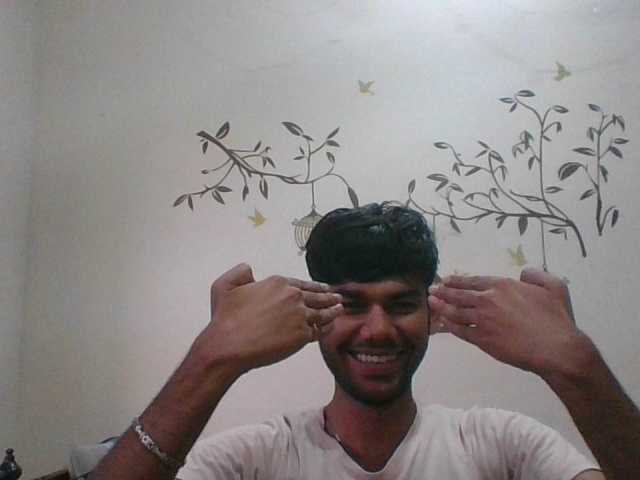I am Utkarsh: (190, 236, 577, 387)
